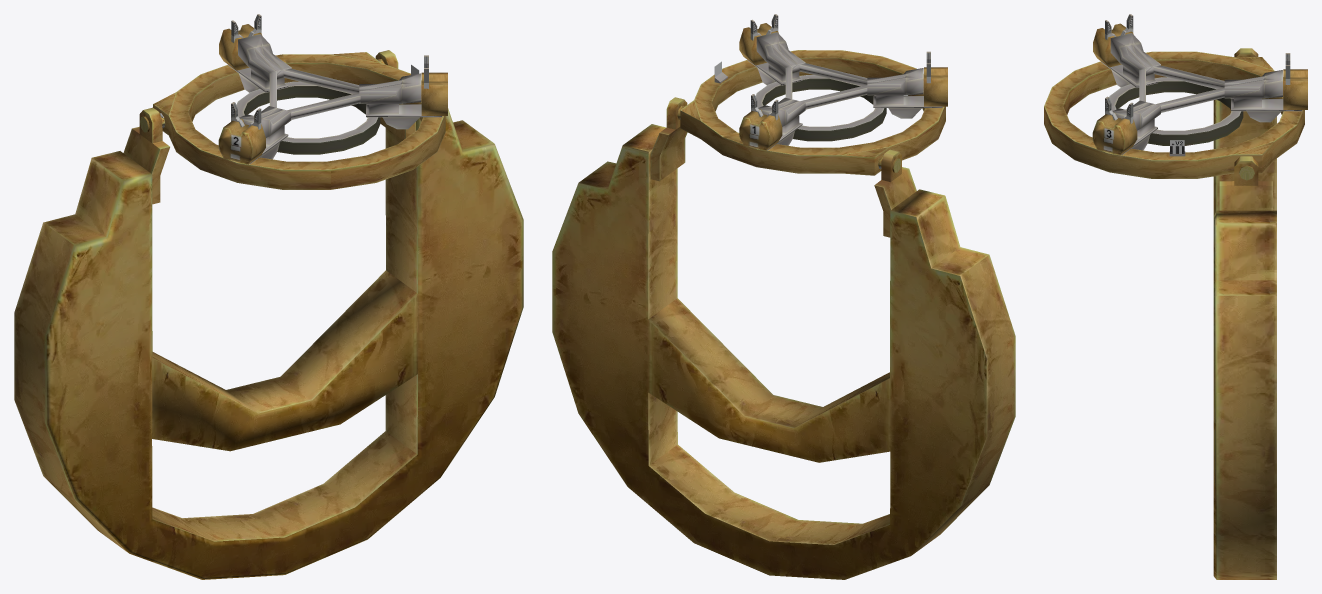
Rendered from support-cradle.glb.
The picture shows the model from 3 angles, left to right: view 1: azimuth 30°, elevation 25°; view 2: azimuth 150°, elevation 25°; view 3: azimuth 270°, elevation 25°; orthographic projection. The views are drawn at different scales.
Visible parts, largest first — view 1: spaceshutt; view 2: spaceshutt; view 3: spaceshutt.
Boxes of the visible parts, x1,y1,x2,y2 form: spaceshutt: [14, 14, 523, 579]; spaceshutt: [552, 14, 1015, 579]; spaceshutt: [1044, 14, 1307, 579].
Size of the model in its own units: 1.7 by 1.8 by 0.8662.
1 material, 1 textured.
